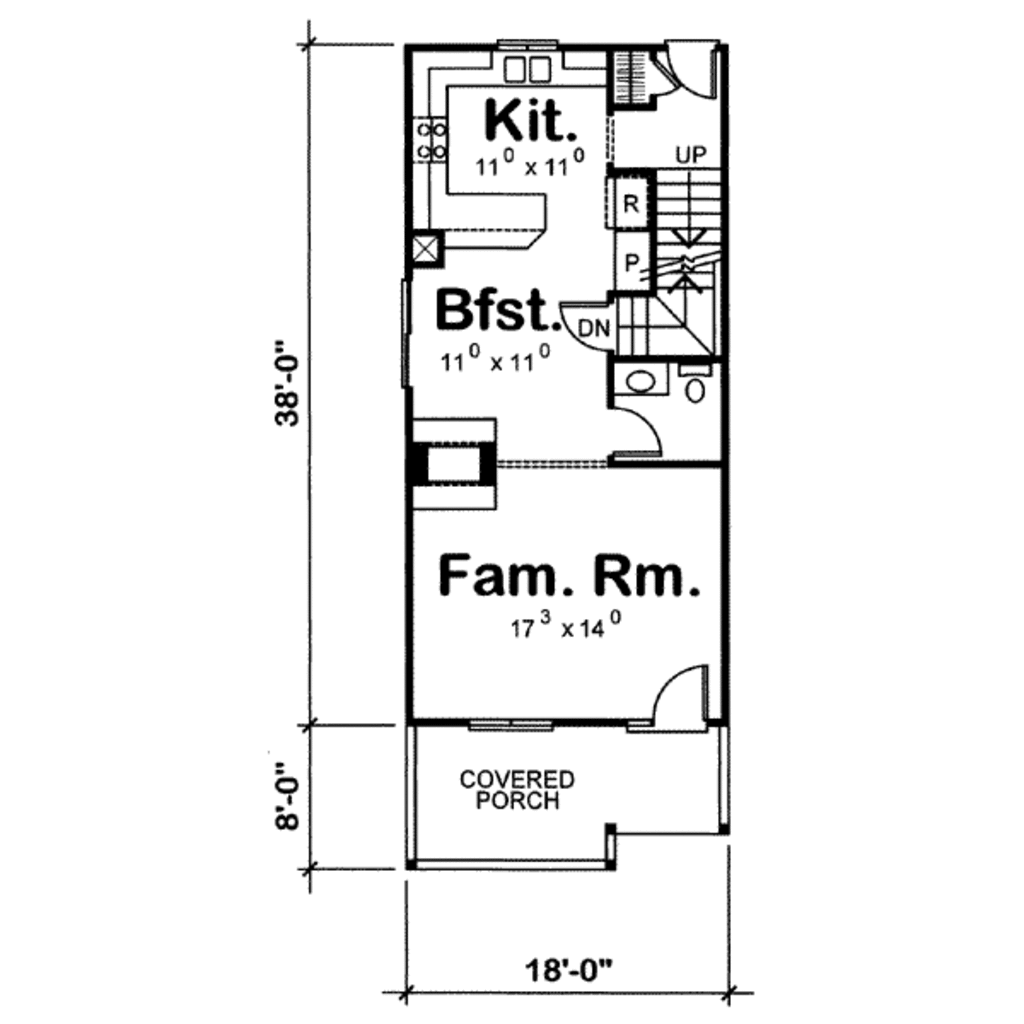door: (633, 667, 709, 747), (539, 289, 617, 353), (606, 400, 664, 455), (673, 38, 717, 105), (642, 53, 688, 113)
large_sink: (672, 367, 708, 403)
small_sink: (619, 367, 667, 389)
stairs: (620, 164, 731, 360)
twin_sink: (489, 50, 567, 94)
window: (469, 708, 559, 733)
